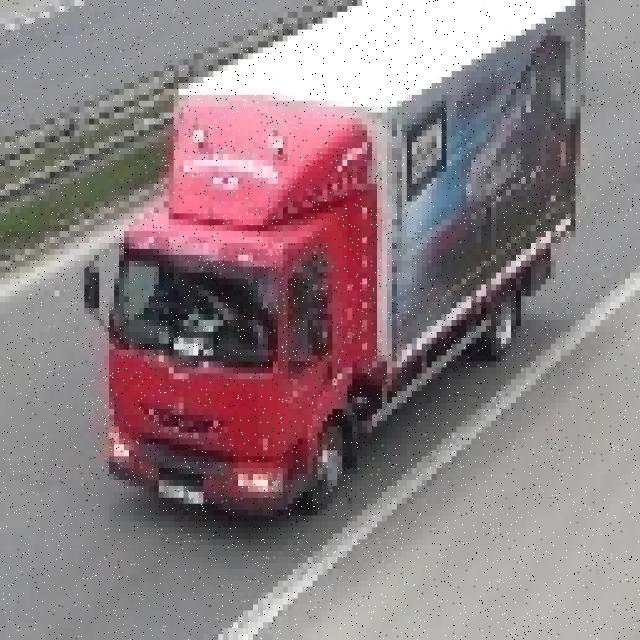truck: (84, 0, 585, 527)
